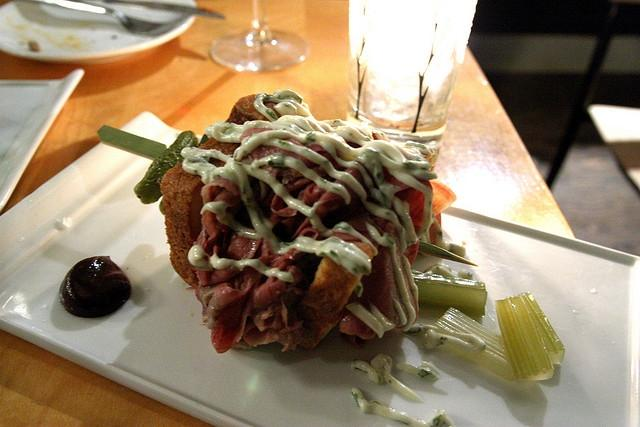celery: (432, 306, 518, 382), (495, 294, 554, 380), (410, 270, 488, 316), (522, 292, 566, 364)
